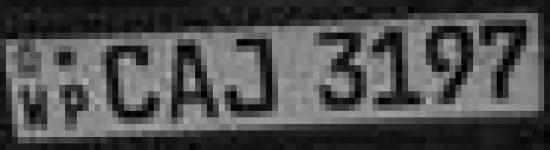1: (367, 25, 427, 113)
3: (302, 26, 370, 116)
7: (475, 15, 532, 108)
9: (424, 20, 478, 110)
A: (166, 38, 220, 124)
C: (100, 40, 164, 127)
J: (219, 34, 285, 123)
P: (61, 79, 93, 133)
W: (16, 81, 59, 136)
